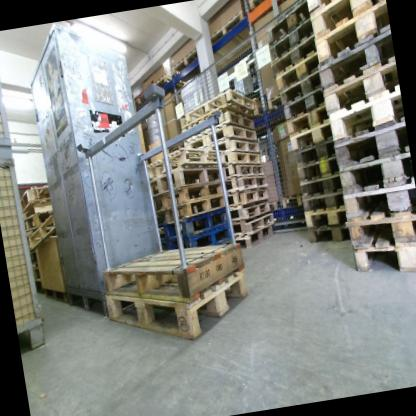pallet: (101, 264, 257, 353), (313, 32, 396, 92), (310, 0, 389, 61), (321, 60, 395, 110), (327, 92, 404, 139), (341, 178, 416, 223), (332, 123, 407, 165), (339, 154, 412, 197), (353, 241, 416, 284), (349, 212, 416, 251), (148, 160, 222, 195), (310, 0, 382, 33), (132, 69, 191, 108), (184, 84, 253, 117), (263, 0, 313, 42), (147, 142, 218, 170), (24, 208, 60, 262), (160, 211, 232, 236), (203, 8, 249, 47), (158, 196, 227, 222), (267, 37, 313, 73), (152, 184, 224, 207), (15, 180, 52, 220), (177, 225, 235, 249), (166, 44, 205, 78), (285, 105, 329, 134), (277, 75, 323, 102), (276, 53, 317, 83), (306, 222, 351, 248), (297, 174, 340, 201), (284, 90, 324, 117), (295, 142, 335, 168), (287, 126, 331, 148), (231, 209, 275, 231), (219, 122, 256, 147), (239, 227, 276, 251), (226, 189, 271, 208), (219, 107, 254, 131), (227, 199, 271, 218), (297, 160, 338, 180), (222, 149, 263, 169), (306, 207, 345, 228), (226, 163, 266, 183), (300, 195, 342, 214), (221, 136, 260, 155), (228, 177, 269, 195), (247, 0, 284, 14), (252, 95, 270, 122), (283, 192, 304, 211), (262, 95, 281, 114), (270, 199, 286, 214)
stillage: (0, 148, 50, 354), (0, 61, 15, 160)
